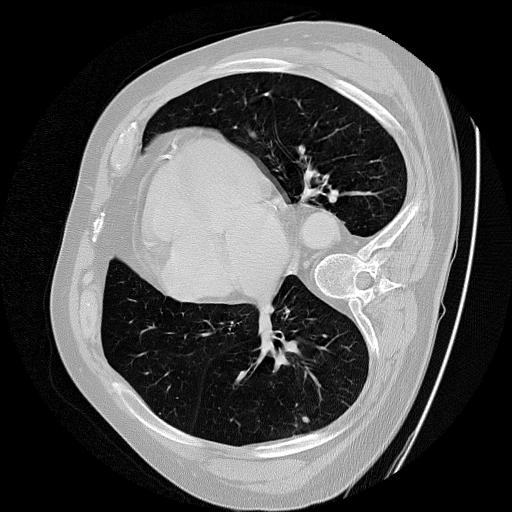nodule: (298, 414, 312, 428)
